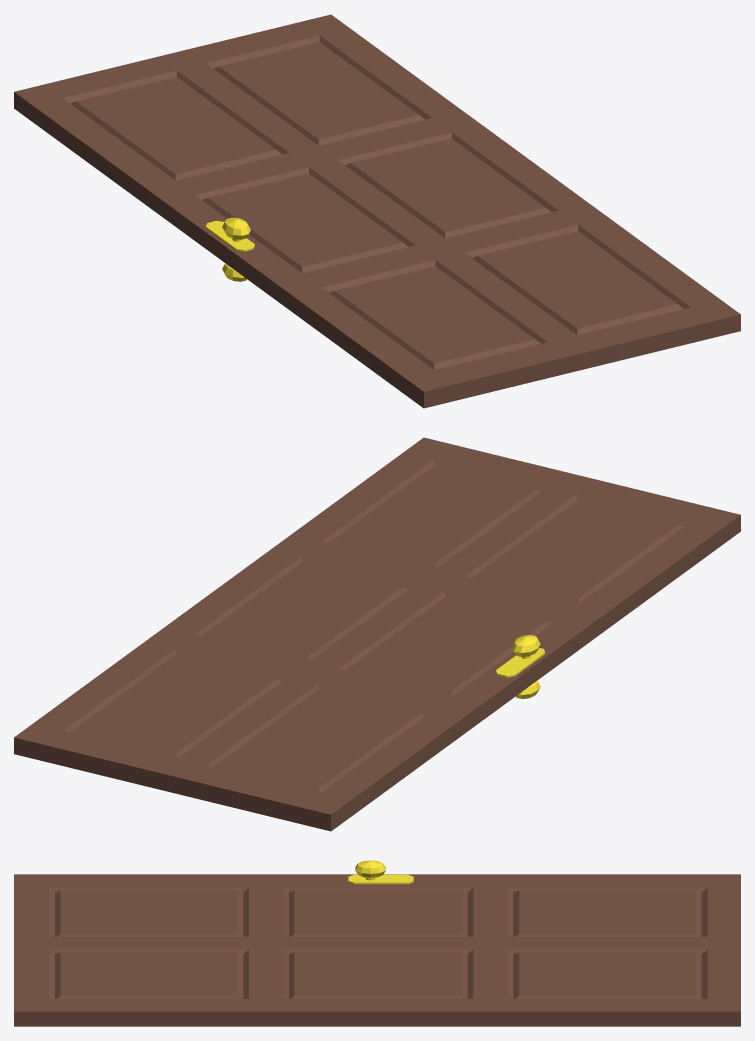
Rendered from 6sqMmqfwKip.glb.
The picture shows the model from 3 angles, top to bottom: view 1: azimuth 30°, elevation 25°; view 2: azimuth 150°, elevation 25°; view 3: azimuth 270°, elevation 25°; orthographic projection. The views are drawn at different scales.
Visible parts, largest first — view 1: pCube12; view 2: pCube12; view 3: pCube12.
Boxes of the visible parts, left/top/right/bottom form: pCube12: left=14, top=14, right=740, bottom=408; pCube12: left=14, top=437, right=740, bottom=831; pCube12: left=14, top=860, right=740, bottom=1026.
Size of the model in its own units: 5.52 by 0.9994 by 12.35.
